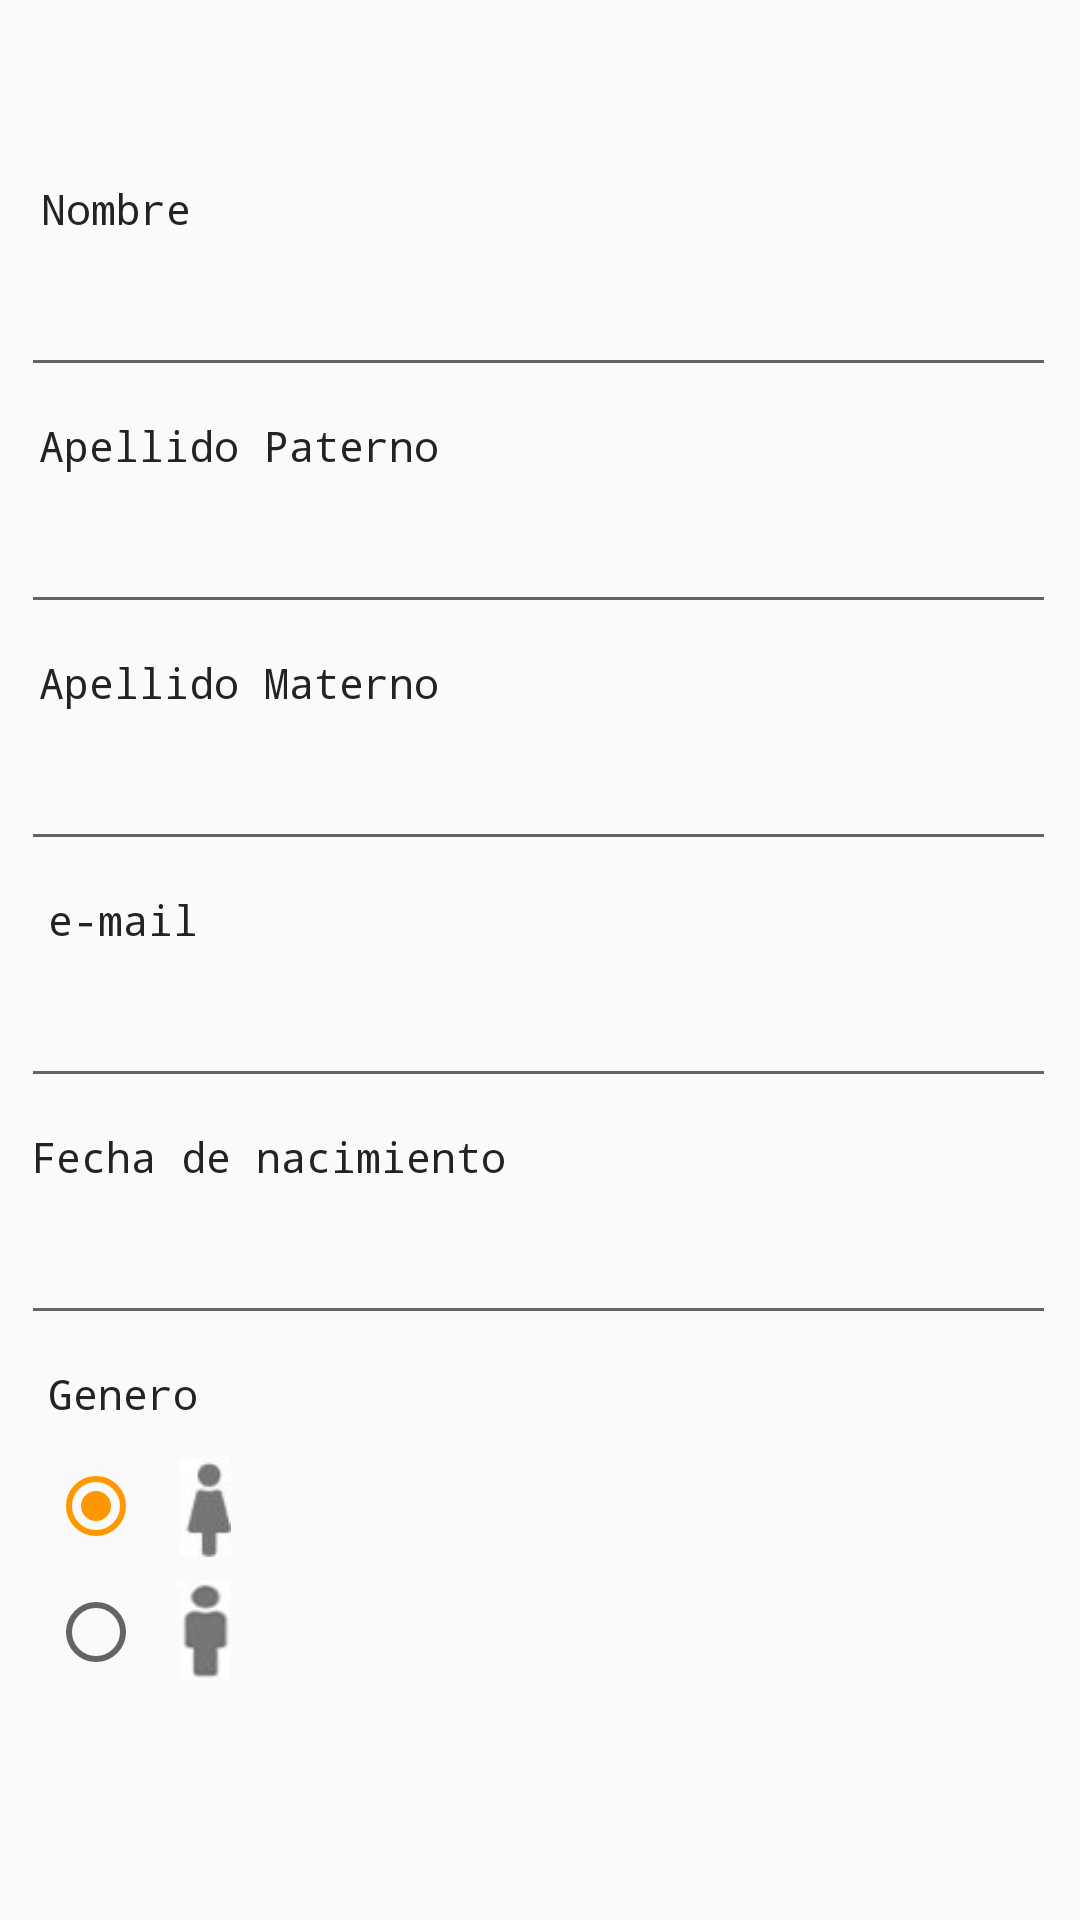

Icon click points for this 1080x1920 phone screenshot, format (x,y):
men: (206,1631)
women: (208,1510)
